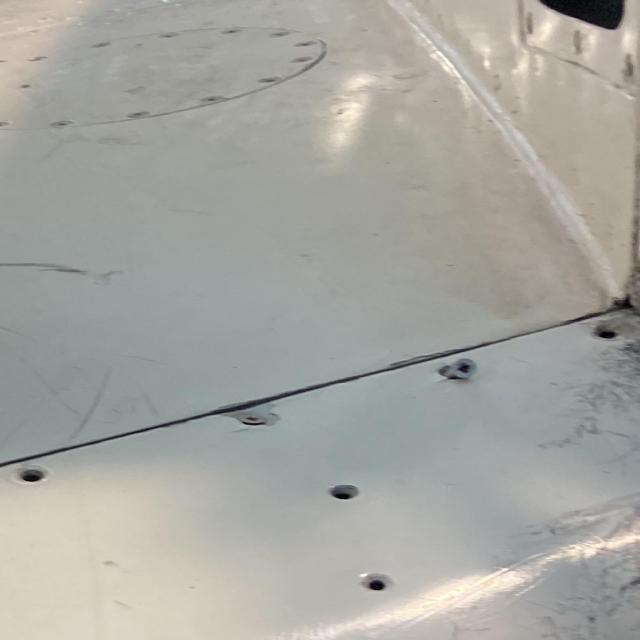Missing-head: (11, 464, 50, 484), (362, 574, 393, 594), (329, 484, 360, 501), (594, 324, 622, 342)
